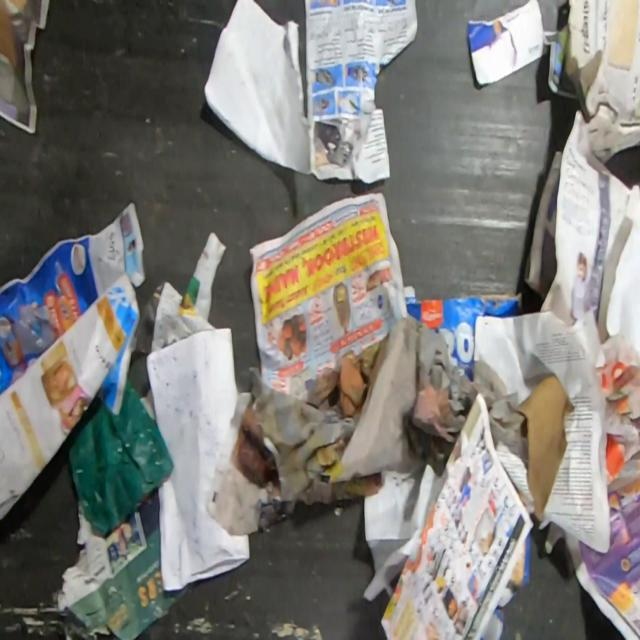cardboard: (53, 488, 187, 639), (405, 289, 524, 383), (480, 524, 532, 640)
soft_plastic: (64, 371, 175, 536)
